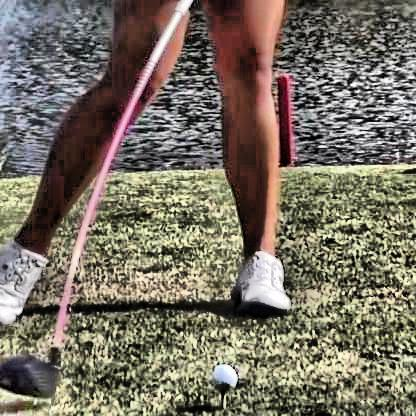golfball: (207, 360, 236, 392)
